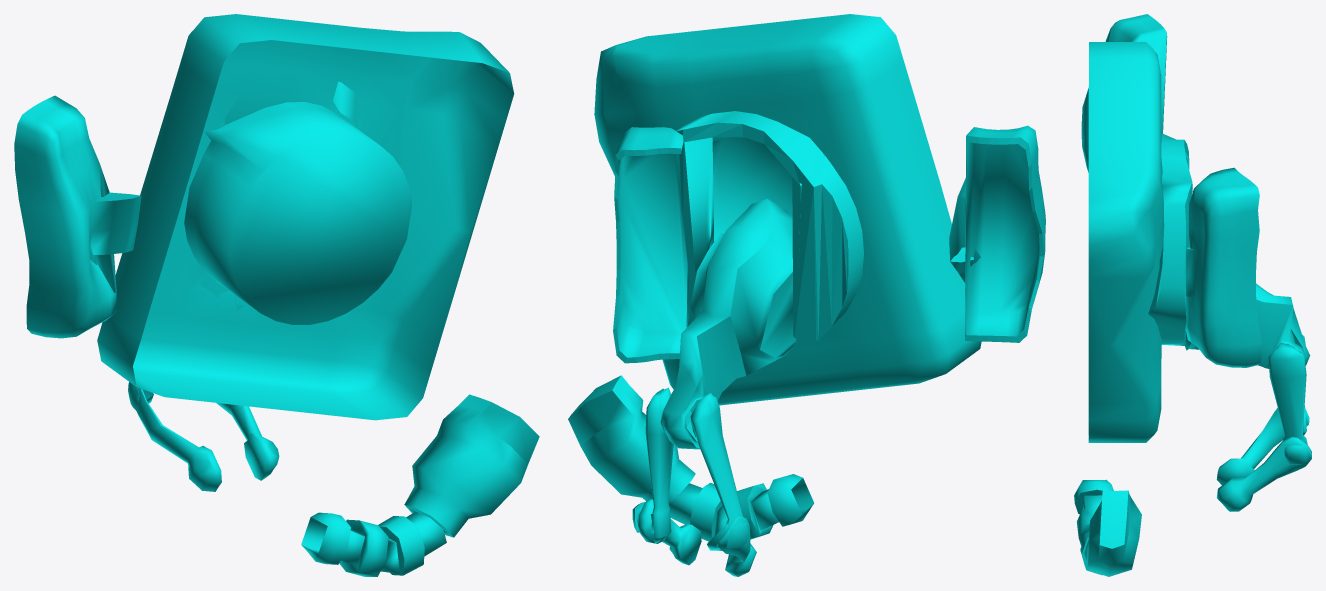
File: gauss_91_dead1.dae
The picture shows the model from 3 angles, left to right: view 1: azimuth 30°, elevation 25°; view 2: azimuth 150°, elevation 25°; view 3: azimuth 270°, elevation 25°; orthographic projection. The views are drawn at different scales.
Visible parts, largest first — view 1: lidLeft; view 2: lidLeft; view 3: lidLeft.
Part boxes in pixels (bbox=[...]): lidLeft: bbox=[14, 14, 539, 576]; lidLeft: bbox=[568, 14, 1045, 576]; lidLeft: bbox=[1074, 14, 1311, 576].
Size of the model in its own units: 61.99 by 31.72 by 68.47.
